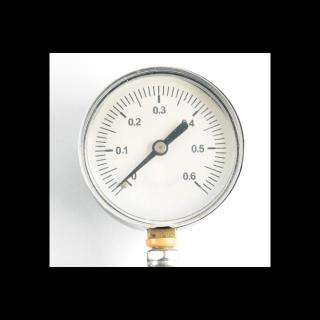gauge: (54, 51, 270, 261), (113, 173, 135, 195), (186, 173, 206, 191), (152, 138, 168, 156), (109, 187, 118, 195)
